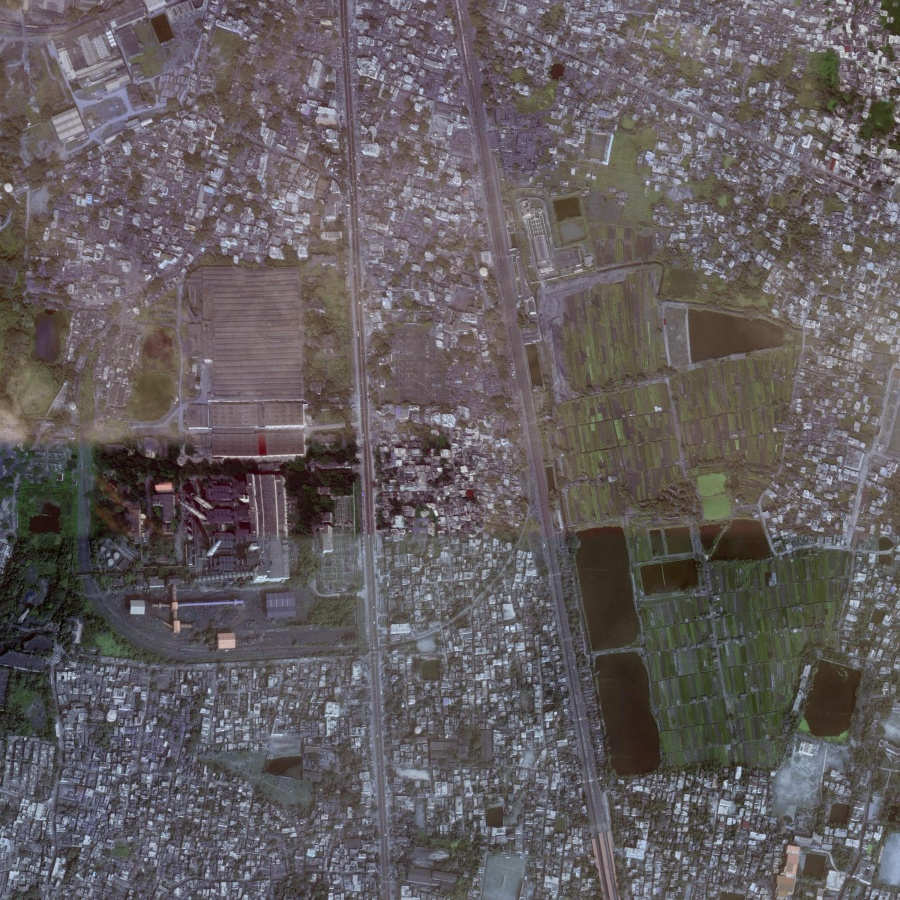PowerPlant: (84, 409, 329, 648)
